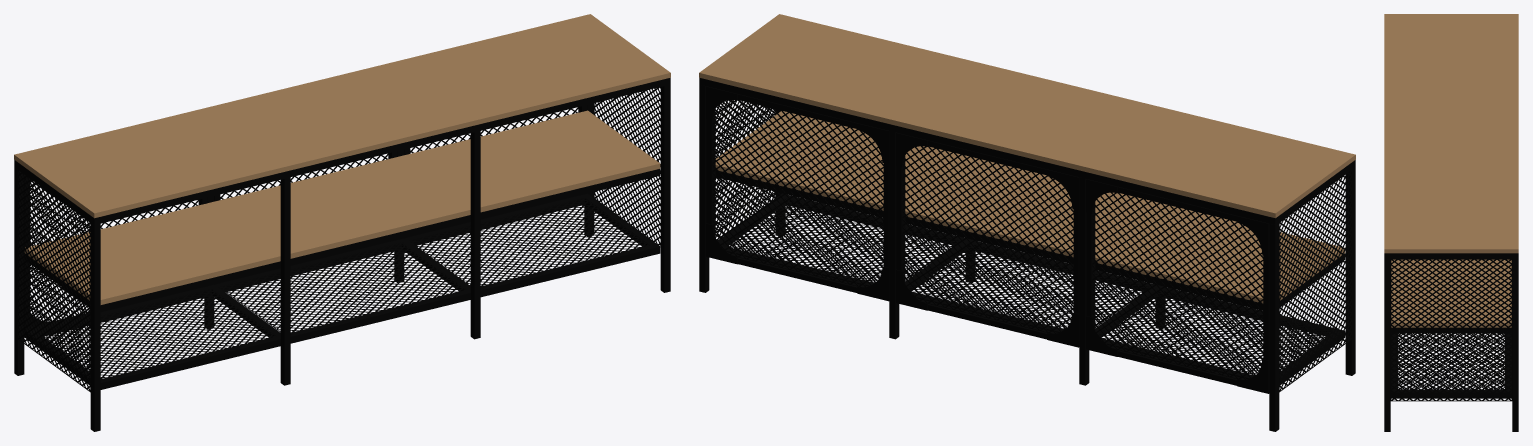
File: tv_unit_ikea_fja_llbo_x.glb
3 renders of one model, left to right at view 1: azimuth 30°, elevation 25°; view 2: azimuth 150°, elevation 25°; view 3: azimuth 270°, elevation 25°, orthographic. The views are drawn at different scales.
Parts seen in each view (by area): view 1: Object_4, Object_6; view 2: Object_6, Object_4; view 3: Object_4, Object_6.
Part boxes in pixels (x1,y1,x2,y2): Object_4: [14, 14, 670, 304]; Object_6: [14, 78, 670, 431]; Object_6: [699, 78, 1355, 431]; Object_4: [699, 14, 1355, 303]; Object_4: [1384, 14, 1518, 327]; Object_6: [1384, 253, 1518, 431].
Size of the model in its own units: 1.49 by 0.5399 by 0.3595.
